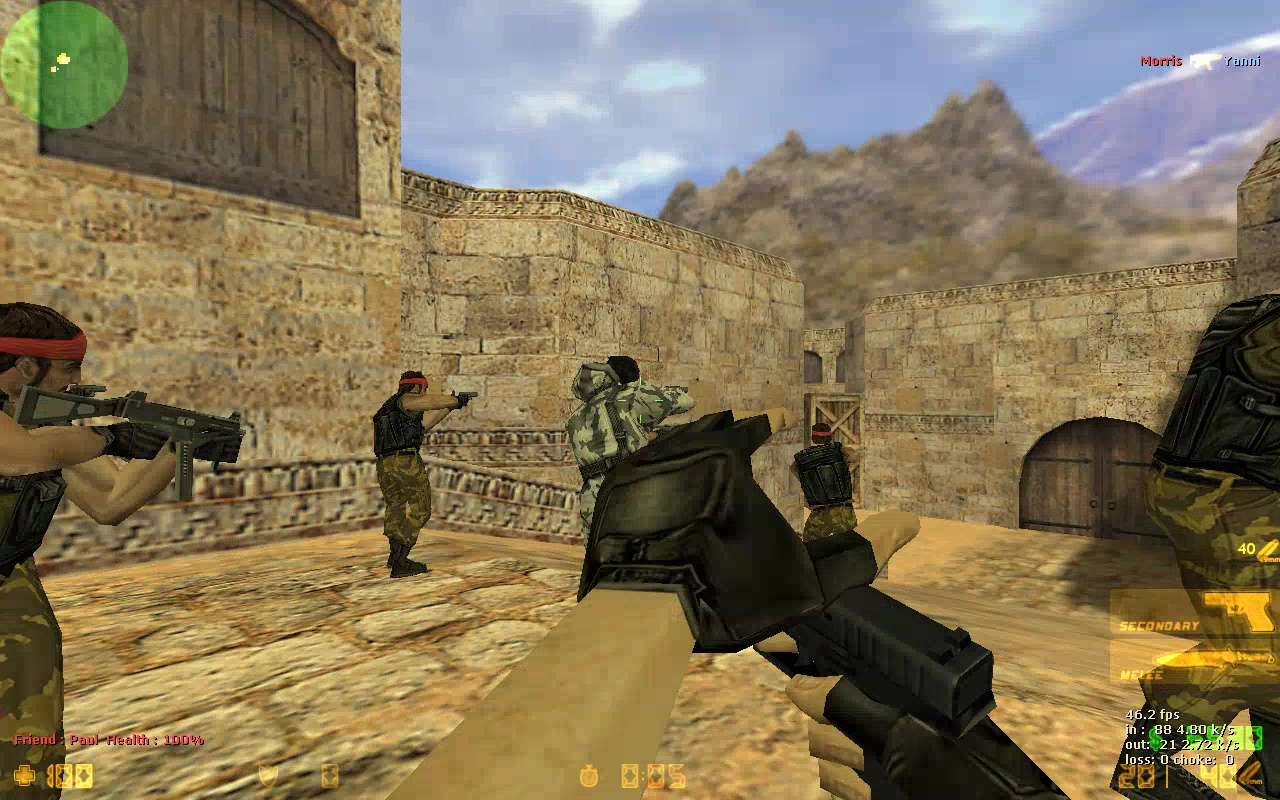terr1: (1, 300, 242, 765), (1105, 287, 1277, 800), (372, 370, 480, 581), (794, 422, 872, 578)
terr2: (568, 350, 692, 567)
